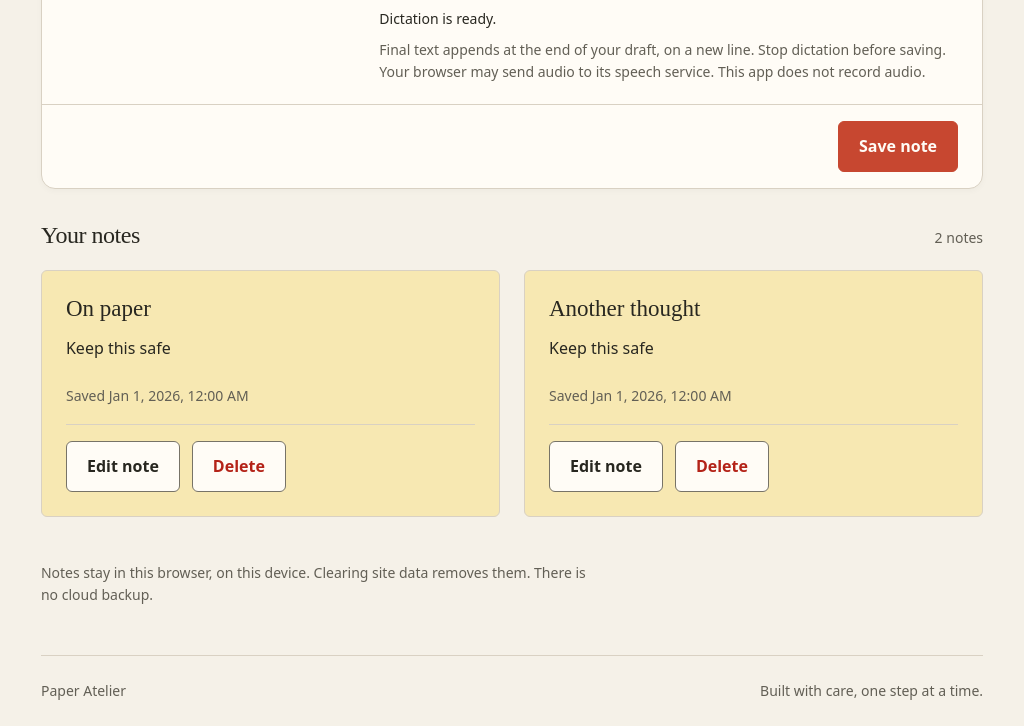
Scenario: opening and cancelling preserve exact storage, initial Cancel focus and opener restoration
The image size is (1024, 726).
(page scrolled)
Click the button with aria-label "Delete note: On paper" at (239, 466), box [192,441,286,492]
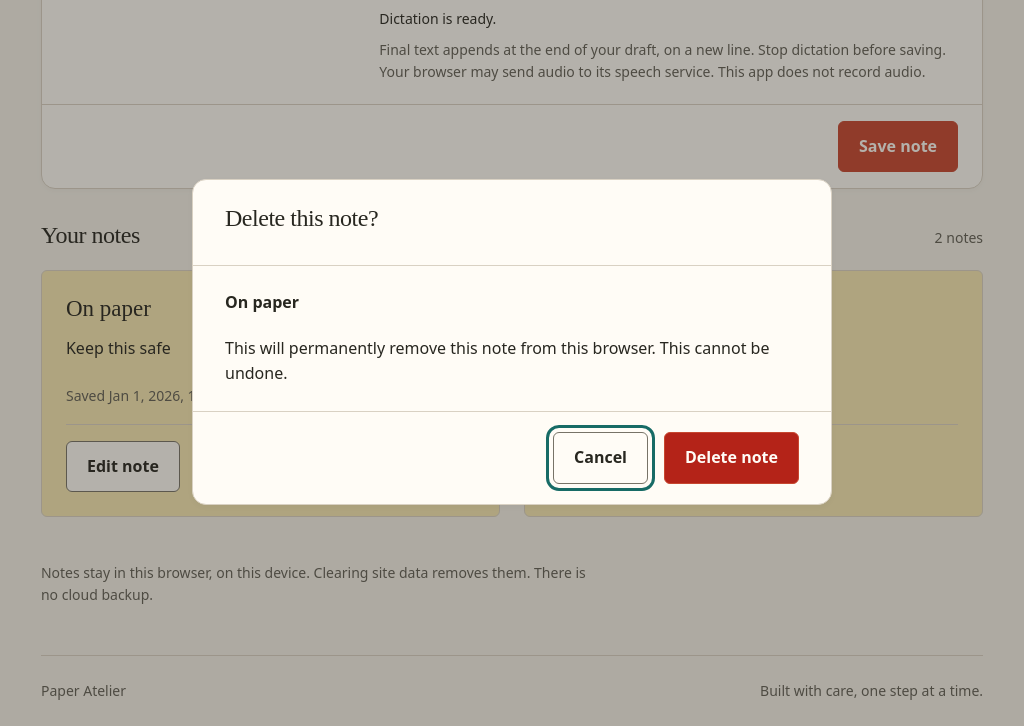
Expected: the text "On paper" is shown, [225,291,299,313]
Click the button "Cancel" at (600, 458), box [553,432,648,484]
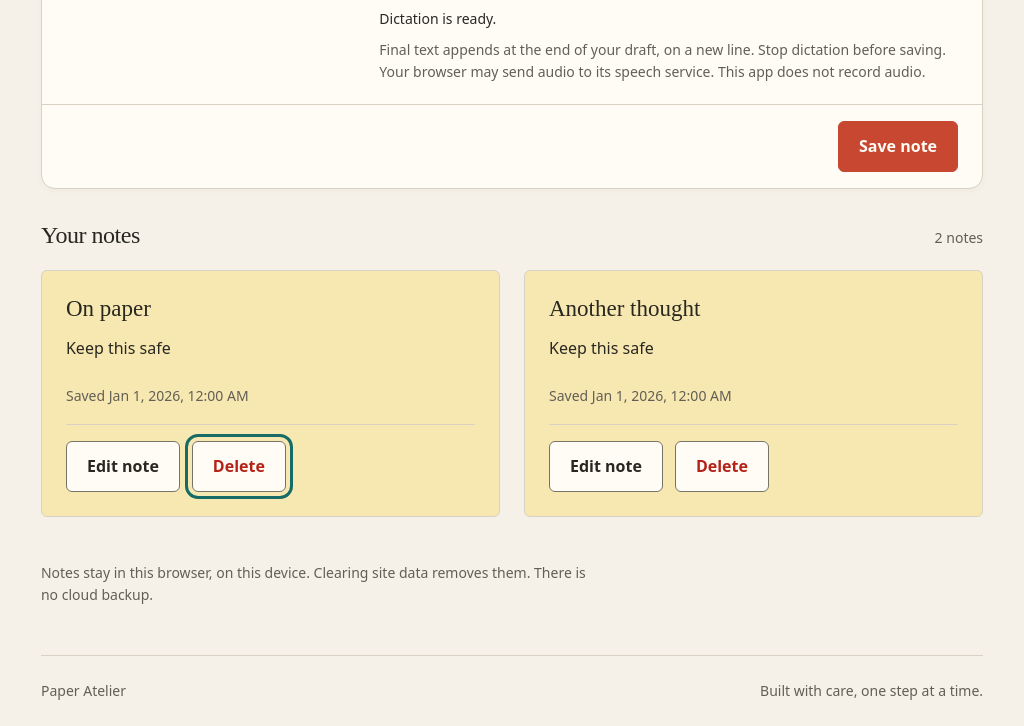
Expected: the dialog is gone
